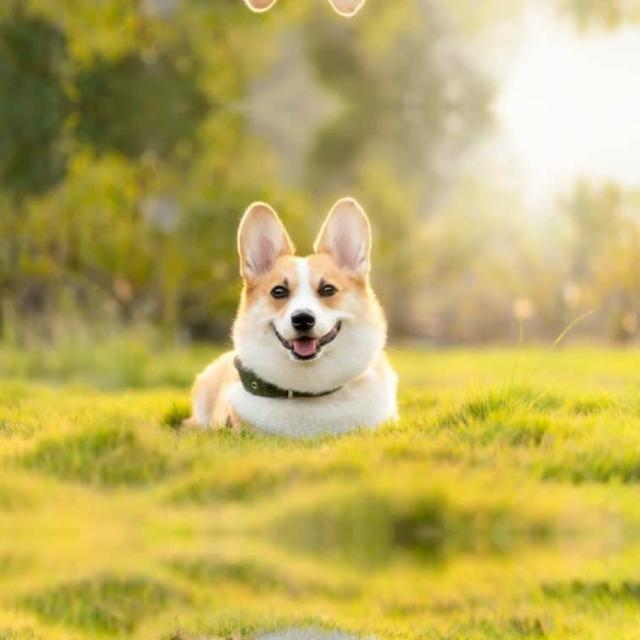dog: (100, 169, 453, 445), (100, 0, 453, 43), (100, 620, 453, 640)
